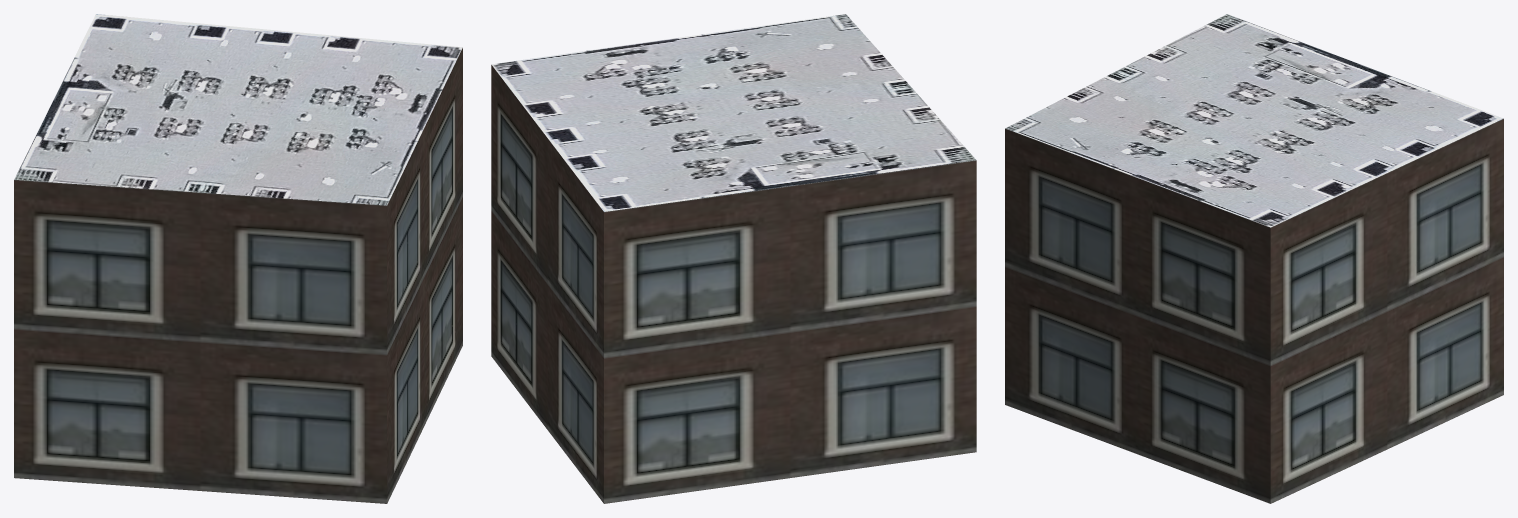
File: ResTex__1334.fbx
3 views of the same model, side by side, from view 1: azimuth 30°, elevation 25°; view 2: azimuth 150°, elevation 25°; view 3: azimuth 270°, elevation 25° (orthographic). The views are drawn at different scales.
Parts seen in each view (by area): view 1: CityEngineMaterial_16_m, CityEngineMaterial_15_m; view 2: CityEngineMaterial_16_m, CityEngineMaterial_15_m; view 3: CityEngineMaterial_16_m, CityEngineMaterial_15_m.
Boxes of the visible parts, x1,y1,x2,y2 form: CityEngineMaterial_16_m: (14, 48, 462, 503); CityEngineMaterial_15_m: (14, 14, 462, 205); CityEngineMaterial_16_m: (491, 65, 976, 503); CityEngineMaterial_15_m: (491, 14, 976, 211); CityEngineMaterial_16_m: (1005, 118, 1503, 503); CityEngineMaterial_15_m: (1005, 14, 1503, 227).
Bounding box in the file's own units: 9.94 × 6 × 9.81.
Materials: 2 (2 with a texture image).
